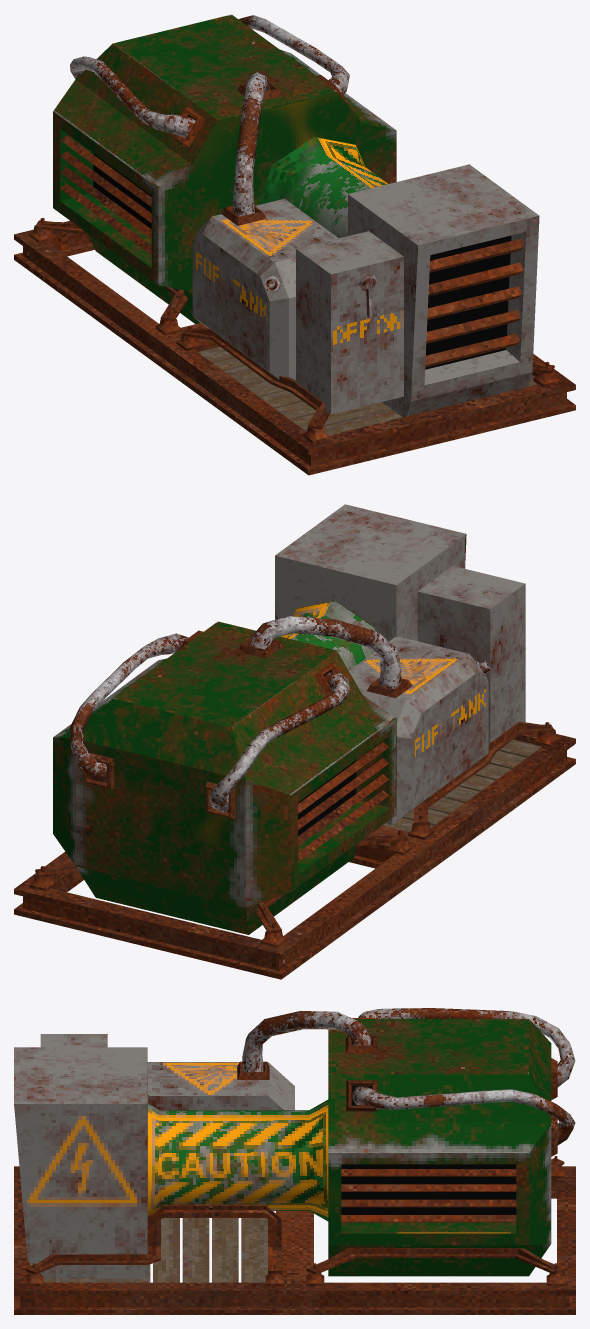
File: pro5.glb
3 renders of one model, top to bottom at view 1: azimuth 30°, elevation 25°; view 2: azimuth 150°, elevation 25°; view 3: azimuth 270°, elevation 25°, orthographic. The views are drawn at different scales.
Visible parts, largest first — view 1: Pipes; view 2: Pipes; view 3: Pipes.
Boxes of the visible parts, <box> form: Pipes: <box>14,14,575,475</box>; Pipes: <box>14,504,575,979</box>; Pipes: <box>14,1008,575,1314</box>.
Size of the model in its own units: 2.2 by 1.92 by 4.2.
Materials: 6 (5 with a texture image).
